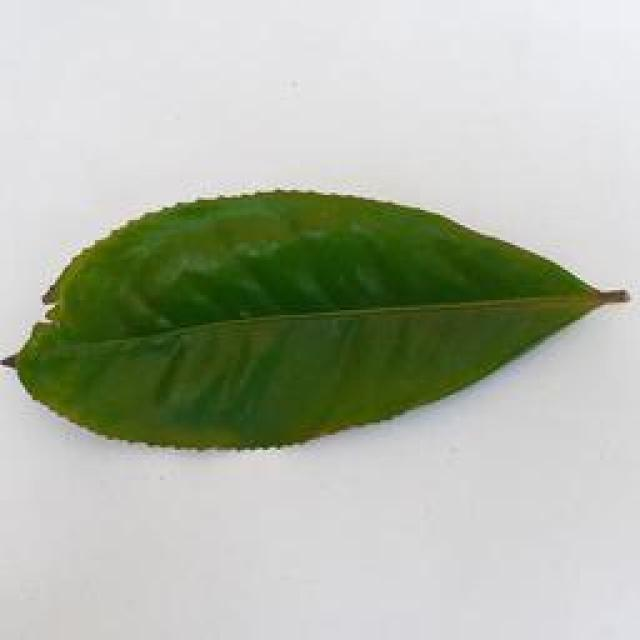Healthy: (0, 166, 633, 450)
